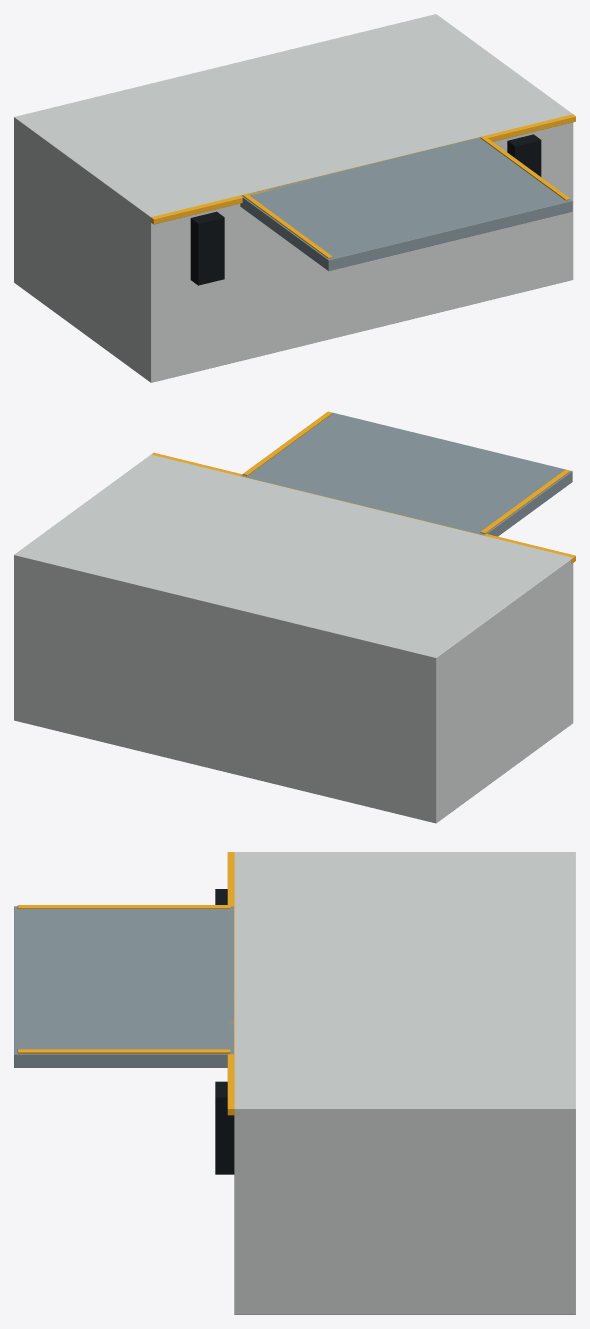
The picture shows the model from 3 angles, top to bottom: view 1: azimuth 30°, elevation 25°; view 2: azimuth 150°, elevation 25°; view 3: azimuth 270°, elevation 25°; orthographic projection. The views are drawn at different scales.
Parts seen in each view (by area): view 1: DOCK_Foundation, LEVELLER_Deck, BUMPER.001, EDGE, BUMPER, LEVELLER_Stripe, LEVELLER_Stripe.001; view 2: DOCK_Foundation, LEVELLER_Deck, EDGE, LEVELLER_Stripe.001, LEVELLER_Stripe; view 3: DOCK_Foundation, LEVELLER_Deck, BUMPER, EDGE, LEVELLER_Stripe.001, LEVELLER_Stripe.
Part boxes in pixels (x1,y1,x2,y2): DOCK_Foundation: [14, 14, 573, 382]; LEVELLER_Deck: [240, 137, 572, 271]; BUMPER.001: [190, 211, 224, 285]; EDGE: [148, 114, 575, 224]; BUMPER: [507, 134, 541, 176]; LEVELLER_Stripe: [242, 194, 332, 258]; LEVELLER_Stripe.001: [480, 136, 569, 200]; DOCK_Foundation: [14, 454, 573, 823]; LEVELLER_Deck: [241, 412, 572, 536]; EDGE: [151, 452, 575, 564]; LEVELLER_Stripe.001: [242, 411, 332, 475]; LEVELLER_Stripe: [480, 469, 569, 533]; DOCK_Foundation: [234, 852, 575, 1314]; LEVELLER_Deck: [14, 906, 233, 1067]; BUMPER: [215, 1081, 234, 1174]; EDGE: [227, 852, 240, 1115]; LEVELLER_Stripe.001: [17, 1049, 230, 1053]; LEVELLER_Stripe: [17, 905, 230, 908].
Bounding box in the file's own units: 3.2 × 1.21 × 2.96.
